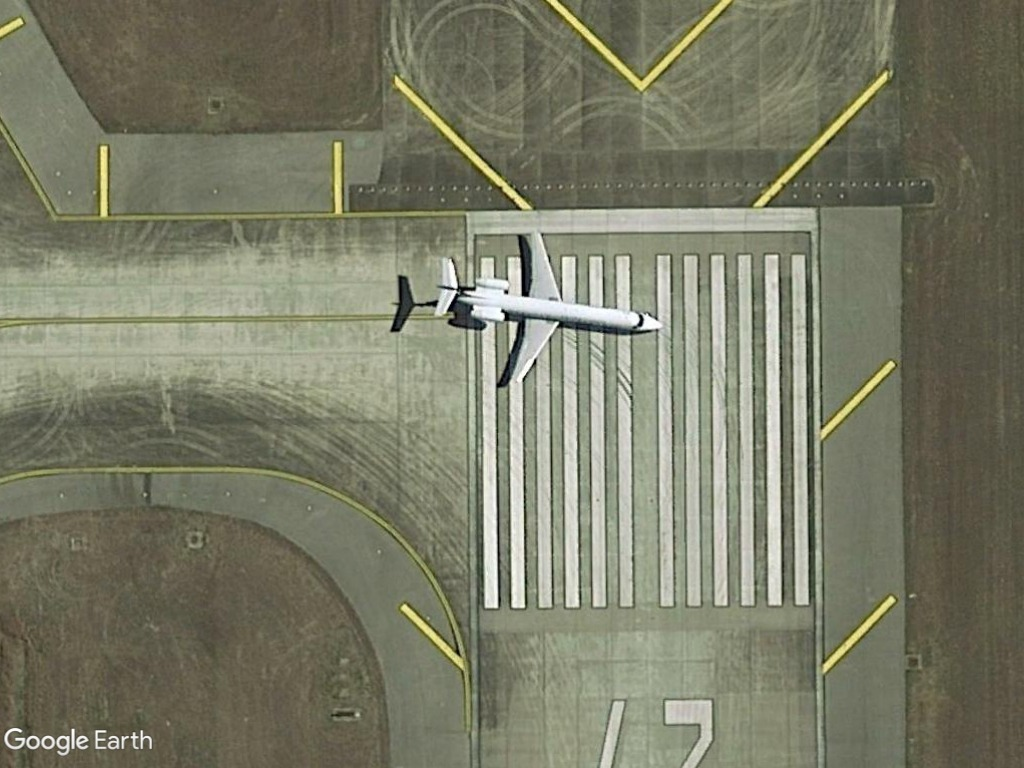chartered: (427, 225, 666, 396)
